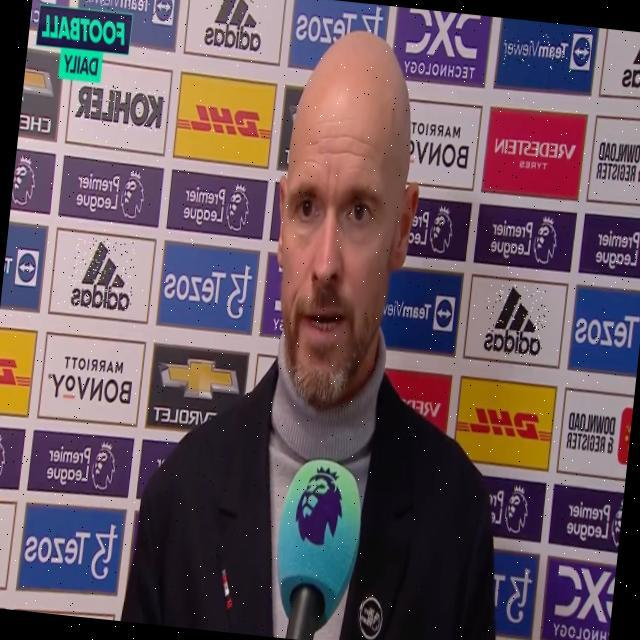Adidas: (68, 235, 137, 315), (481, 282, 548, 358), (201, 0, 267, 53)
Chevrolet: (150, 352, 240, 432)
Kohler: (73, 82, 166, 131)
TeamViewer: (498, 27, 592, 74), (80, 0, 174, 25)
